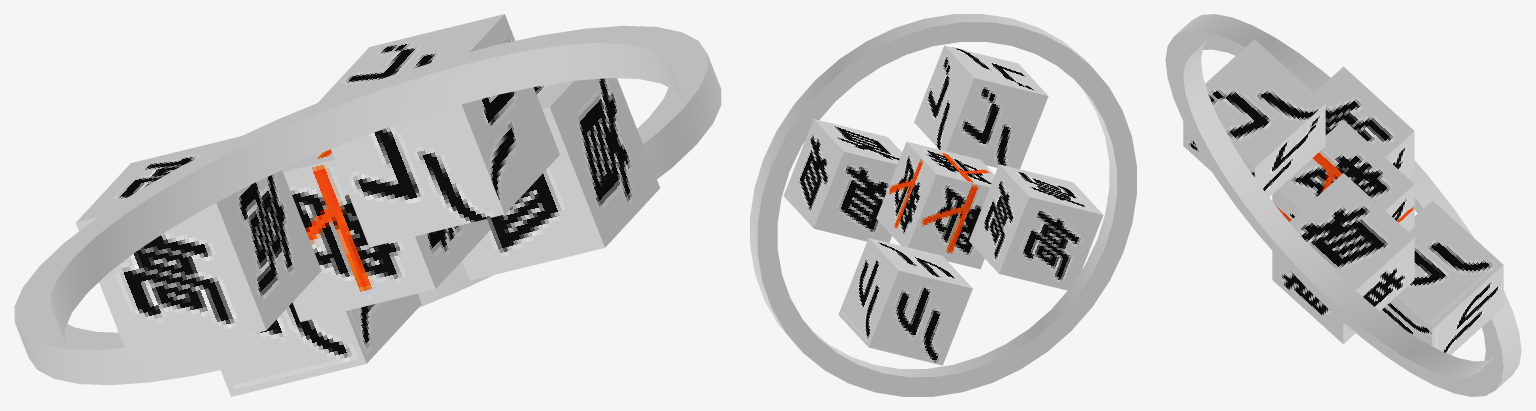
Rendered from ps2_save-icons_tokyoxtremeracerzero-jp.glb.
3 renders of one model, left to right at view 1: azimuth 30°, elevation 25°; view 2: azimuth 150°, elevation 25°; view 3: azimuth 270°, elevation 25°, orthographic. The views are drawn at different scales.
Visible parts, largest first — view 1: def.ico; view 2: def.ico; view 3: def.ico.
Boxes of the visible parts, x1=… form: def.ico: x1=14, y1=14, x2=721, y2=396; def.ico: x1=750, y1=14, x2=1136, y2=396; def.ico: x1=1165, y1=14, x2=1521, y2=396.
Size of the model in its own units: 4.75 by 3.54 by 3.54.
Materials: 1 (1 with a texture image).
